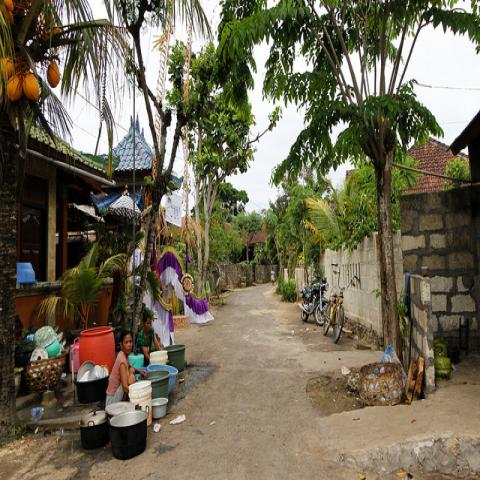motorcycle: (299, 274, 329, 327)
